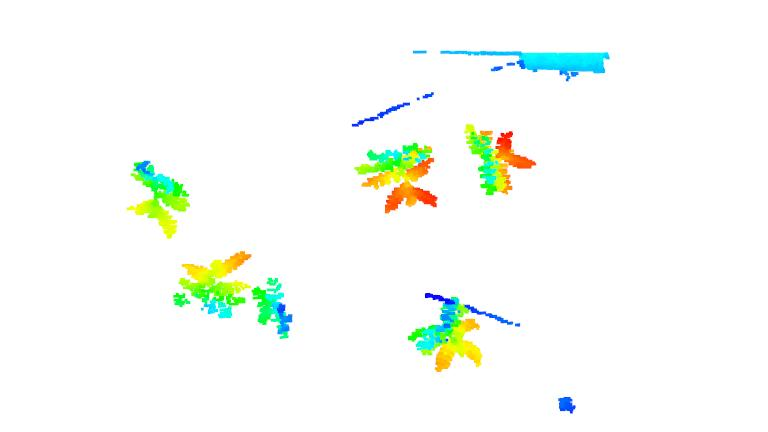chickpea: (404, 293, 483, 373), (355, 141, 437, 215), (172, 248, 254, 320), (462, 121, 538, 197), (125, 158, 191, 242), (250, 276, 294, 340)
